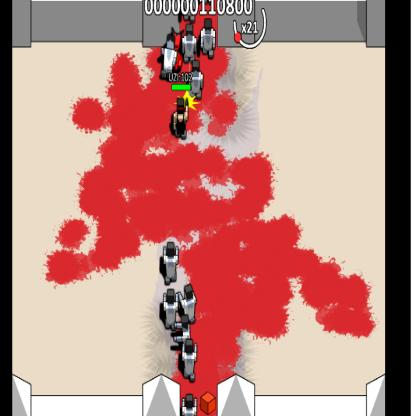agent: (171, 97, 189, 140)
jombie: (179, 284, 197, 324), (181, 339, 198, 381), (162, 241, 178, 285), (201, 17, 217, 59), (188, 60, 204, 101), (175, 314, 192, 352), (182, 23, 198, 63), (164, 289, 178, 329), (180, 392, 198, 416)
